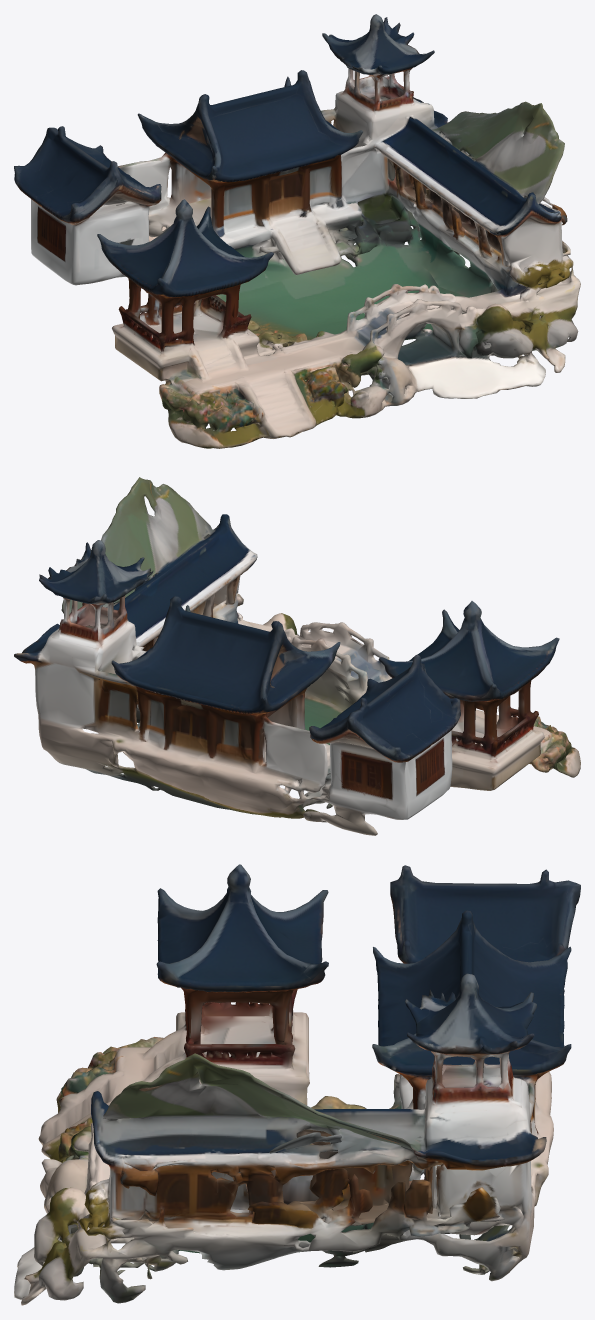
3 renders of one model, top to bottom at view 1: azimuth 30°, elevation 25°; view 2: azimuth 150°, elevation 25°; view 3: azimuth 270°, elevation 25°, orthographic. The views are drawn at different scales.
Visible parts, largest first — view 1: material.001; view 2: material.001; view 3: material.001.
Part boxes in pixels (<box>): material.001: <box>14,14,580,448</box>; material.001: <box>14,477,580,835</box>; material.001: <box>14,864,580,1305</box>.
Size of the model in its own units: 0.9136 by 0.5424 by 0.8389.
1 material, 1 textured.
